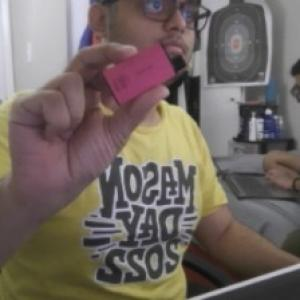Blume-E-Ciggirate: (102, 36, 186, 106)
